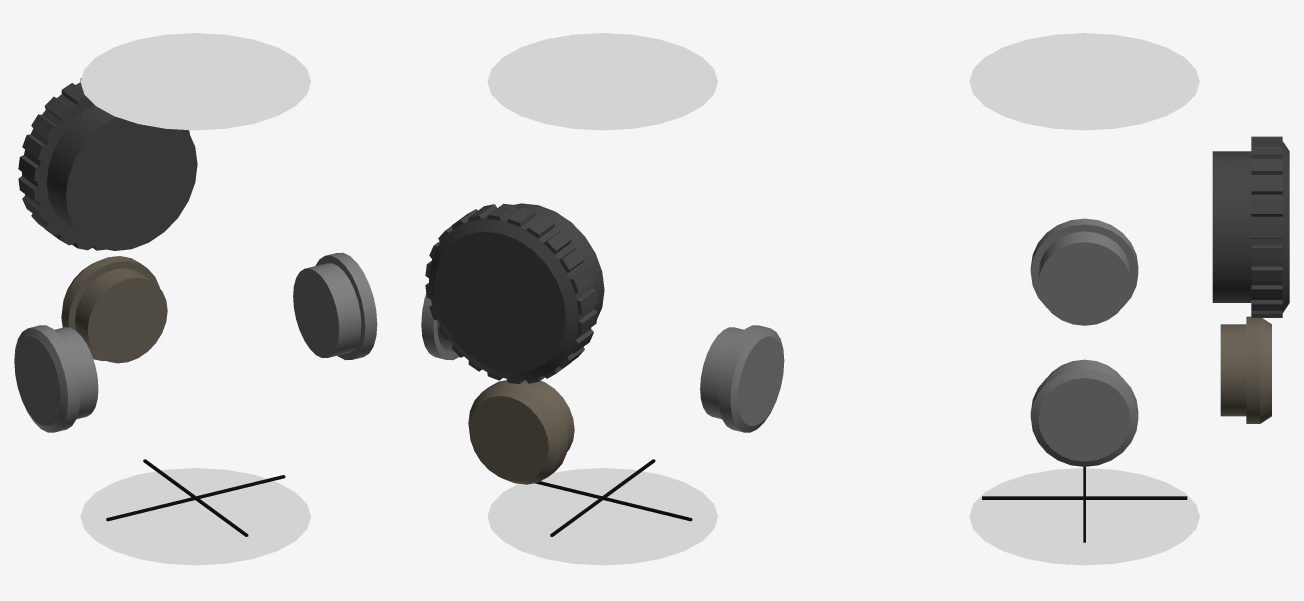
The model's file is Wea_MiaoZhunJing1.FBX.
The picture shows the model from 3 angles, left to right: view 1: azimuth 30°, elevation 25°; view 2: azimuth 150°, elevation 25°; view 3: azimuth 270°, elevation 25°; orthographic projection.
Visible parts, largest first — view 1: Box005; view 2: Box005; view 3: Box005.
Boxes of the visible parts, x1=… form: Box005: x1=14, y1=33, x2=377, y2=565; Box005: x1=421, y1=33, x2=784, y2=565; Box005: x1=969, y1=33, x2=1289, y2=565.
Size of the model in its own units: 142 by 200 by 180.
